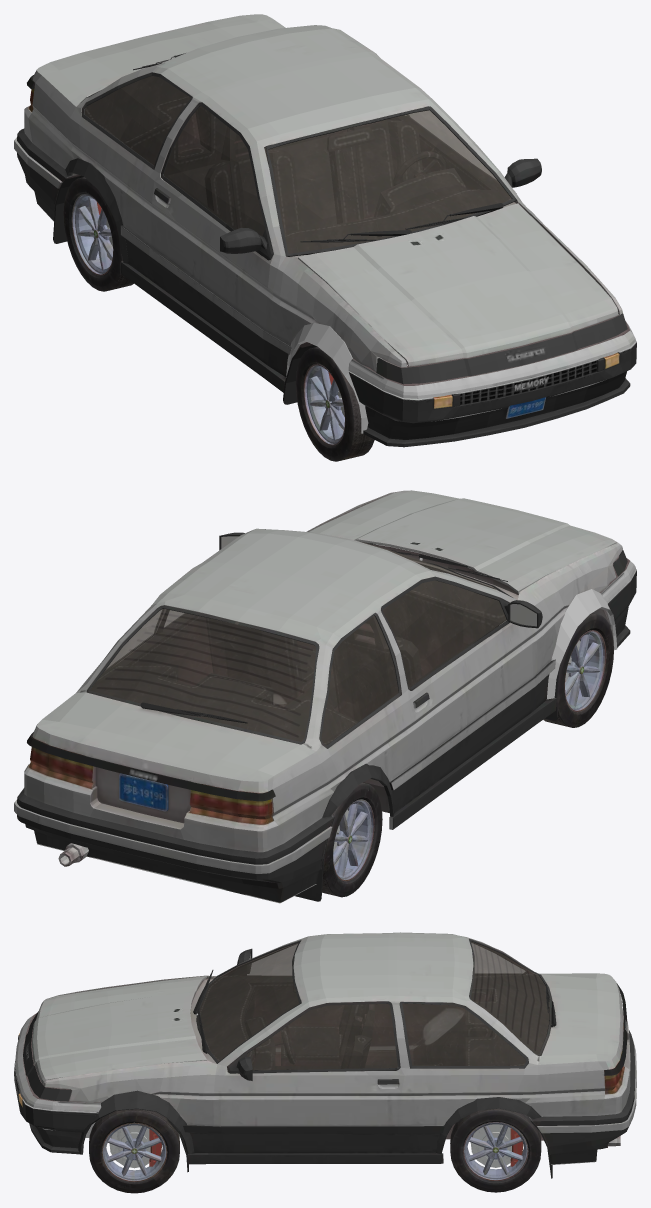
File: ext_ae86.glb
3 renders of one model, top to bottom at view 1: azimuth 30°, elevation 25°; view 2: azimuth 150°, elevation 25°; view 3: azimuth 270°, elevation 25°, orthographic. The views are drawn at different scales.
Parts seen in each view (by area): view 1: glass_l.001; view 2: glass_l.001; view 3: glass_l.001.
Boxes of the visible parts, <box> form: glass_l.001: <box>14,14,636,461</box>; glass_l.001: <box>14,490,636,903</box>; glass_l.001: <box>14,932,636,1193</box>.
Size of the model in its own units: 1.93 by 1.37 by 4.2.
4 materials, 4 textured.
